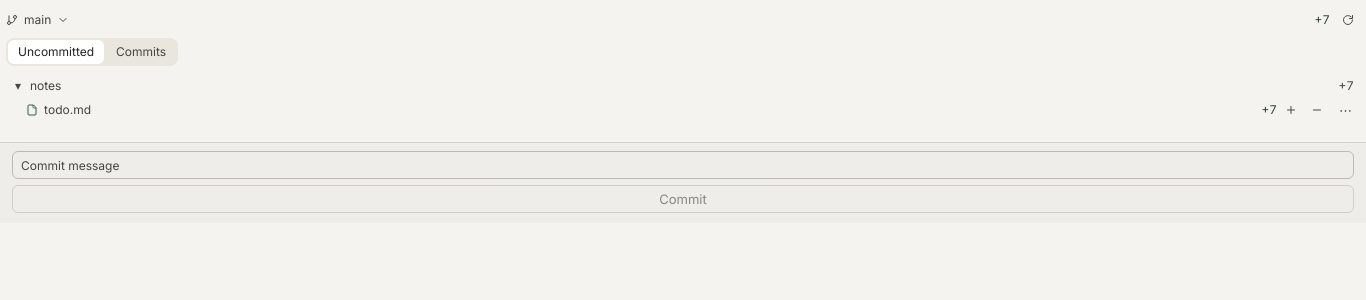
ChangesSurface R7b panel body › paints new files' stats in the add tone and keeps the select behaviour
Expected: the element with class "workspace-file-change-stats" reads "+7", x1=1261 y1=102 x2=1277 y2=117
Click the button with class "workspace-changes-file-add": (69, 110) x1=6 y1=98 x2=1259 y2=122
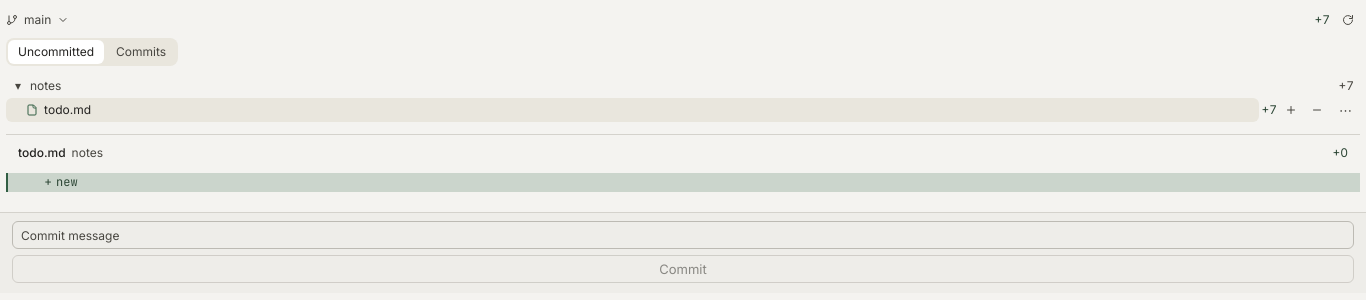
Expected: the element with class "workspace-changes-diff-row" is shown, x1=6 y1=173 x2=1360 y2=192
